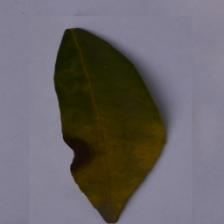black spot: (52, 102, 98, 180)
